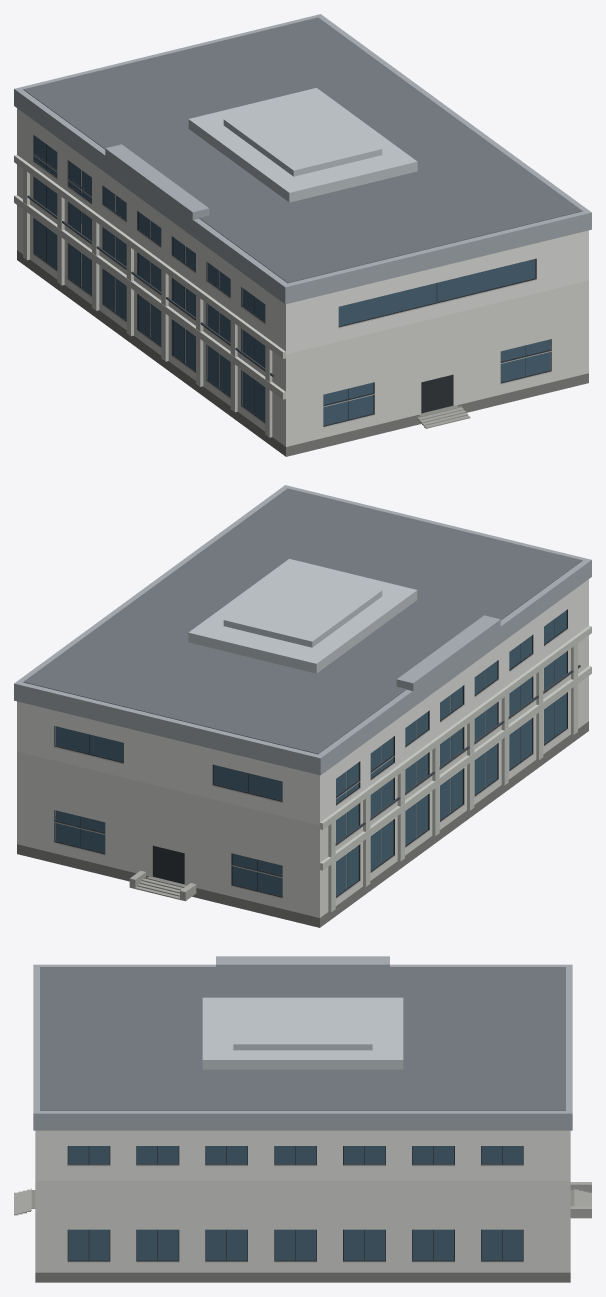
The picture shows the model from 3 angles, top to bottom: view 1: azimuth 30°, elevation 25°; view 2: azimuth 150°, elevation 25°; view 3: azimuth 270°, elevation 25°; orthographic projection.
Parts seen in each view (by area): view 1: roof, colonnadeWall, hallWall, glass, silverParapet, roofDome, terraceConcrete, plinth, frame, sill, railingSteel, step-gym-north; view 2: roof, colonnadeWall, hallWall, glass, silverParapet, roofDome, terraceConcrete, plinth, frame, sill, railingSteel, step-gym-east; view 3: roof, colonnadeWall, hallWall, silverParapet, roofDome, glass, plinth, frame, sill, stone.
Boxes of the visible parts, <box> form: roof: <box>23,17,582,283</box>; colonnadeWall: <box>17,155,588,446</box>; hallWall: <box>17,108,588,354</box>; glass: <box>34,136,550,425</box>; silverParapet: <box>14,14,591,304</box>; roofDome: <box>188,88,417,202</box>; terraceConcrete: <box>14,155,285,437</box>; plinth: <box>17,220,588,456</box>; frame: <box>33,135,551,426</box>; sill: <box>32,154,552,427</box>; railingSteel: <box>27,195,274,376</box>; step-gym-north: <box>417,406,470,428</box>; roof: <box>23,488,582,754</box>; colonnadeWall: <box>17,635,588,917</box>; hallWall: <box>17,579,588,825</box>; glass: <box>55,610,566,896</box>; silverParapet: <box>14,485,591,775</box>; roofDome: <box>188,559,417,673</box>; terraceConcrete: <box>320,626,591,912</box>; plinth: <box>17,695,588,927</box>; frame: <box>54,609,567,897</box>; sill: <box>53,628,568,898</box>; railingSteel: <box>335,665,580,845</box>; step-gym-east: <box>135,877,184,899</box>; roof: <box>40,967,565,1110</box>; colonnadeWall: <box>35,1180,570,1272</box>; hallWall: <box>35,1130,570,1180</box>; silverParapet: <box>33,956,572,1130</box>; roofDome: <box>202,997,403,1069</box>; glass: <box>68,1146,522,1260</box>; plinth: <box>35,1164,570,1282</box>; frame: <box>67,1146,523,1261</box>; sill: <box>67,1165,524,1262</box>; stone: <box>570,1182,591,1218</box>.
Bounding box in the file's own units: 26.42 × 15.36 × 43.2.
